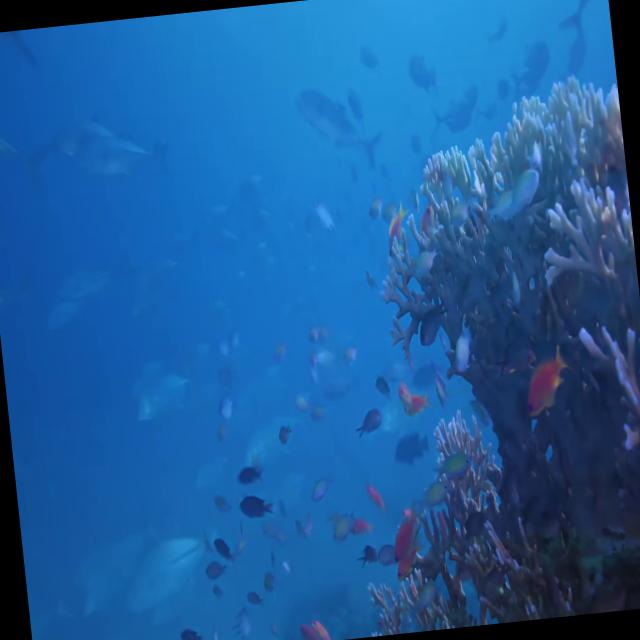fish: (293, 62, 399, 190), (119, 487, 213, 612), (77, 119, 184, 195), (468, 144, 552, 226), (504, 339, 578, 419), (388, 535, 432, 595), (232, 486, 275, 540), (382, 498, 428, 547), (348, 400, 390, 446), (365, 361, 399, 412), (230, 454, 268, 493), (398, 384, 435, 422), (345, 532, 380, 571), (358, 472, 388, 516), (304, 468, 338, 505), (325, 508, 355, 548), (348, 501, 378, 541), (273, 418, 303, 457), (393, 372, 413, 423), (291, 509, 321, 543), (310, 613, 331, 640), (260, 568, 276, 592)
